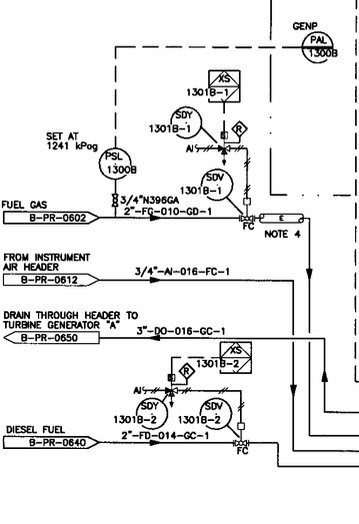Instrument-offset: (105, 395, 171, 431), (178, 166, 237, 205), (150, 100, 204, 142), (178, 397, 236, 435), (96, 145, 149, 183), (296, 30, 342, 66)
Instrument-square-offset: (192, 340, 260, 381), (181, 66, 244, 105)
